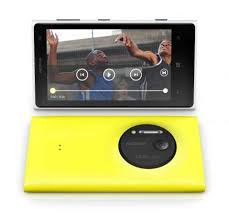nokia: (30, 17, 200, 110)
